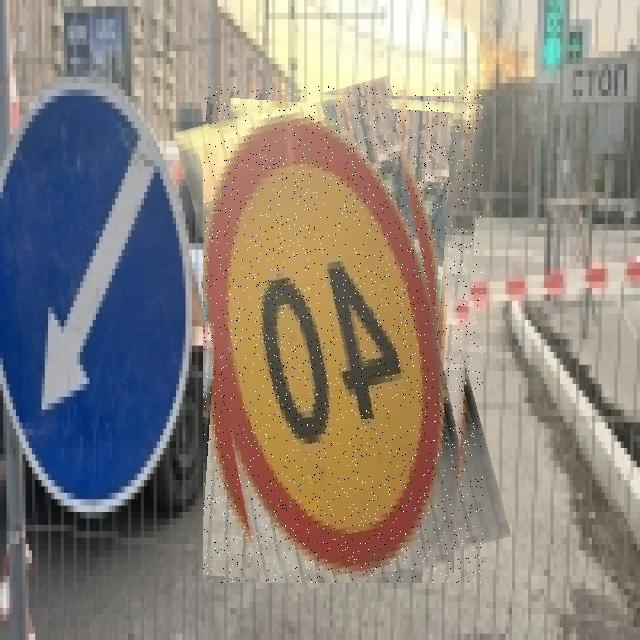speed limit 40: (203, 86, 483, 583)
